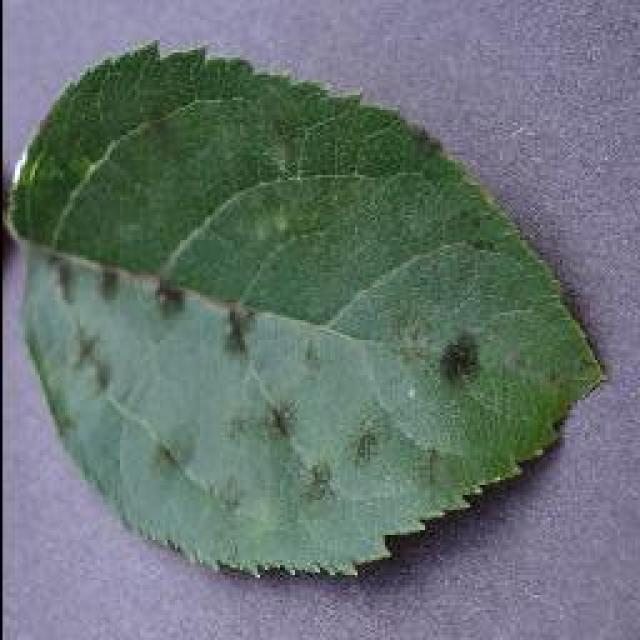apple scab disease: (5, 38, 607, 580)
